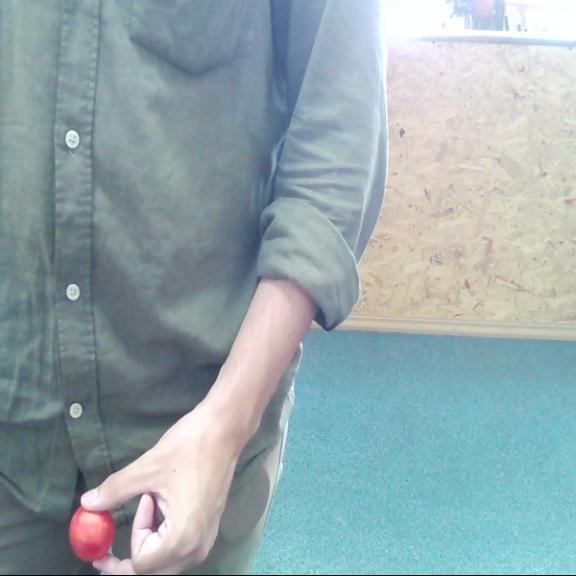ball: (69, 506, 117, 560)
